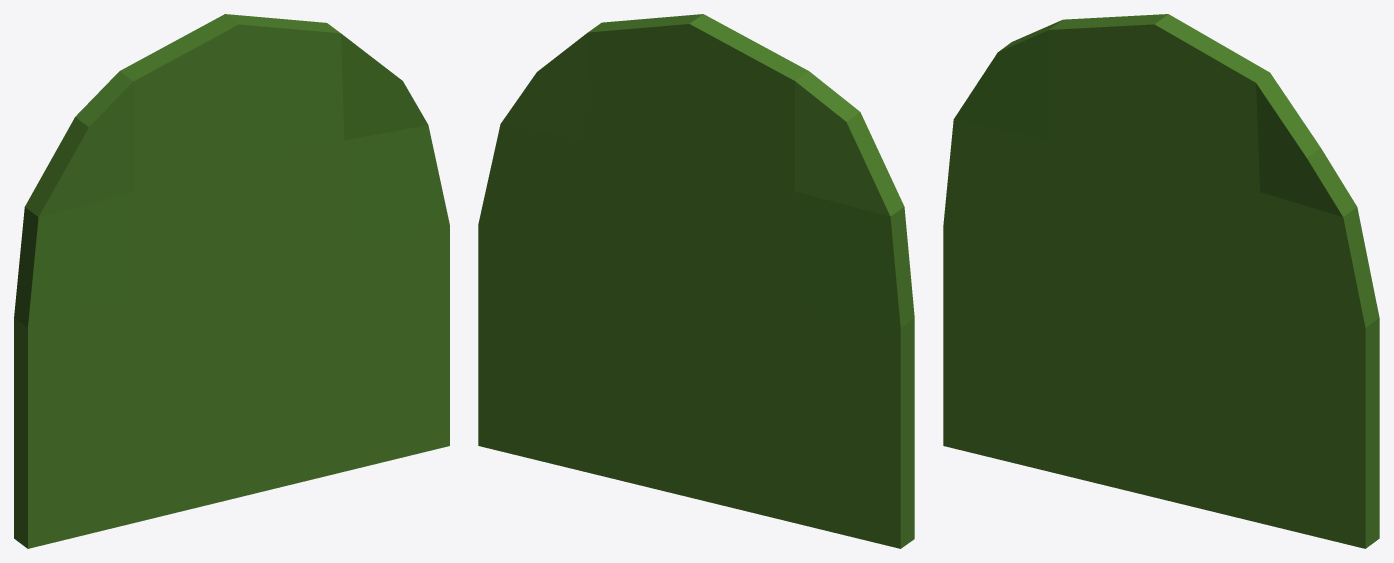
Rendered from greenportal1.glb.
3 renders of one model, left to right at view 1: azimuth 30°, elevation 25°; view 2: azimuth 150°, elevation 25°; view 3: azimuth 330°, elevation 25°, orthographic.
Parts seen in each view (by area): view 1: Portal.Arch.Plane.002; view 2: Portal.Arch.Plane.002; view 3: Portal.Arch.Plane.002.
Part boxes in pixels (x1,y1,x2,y2): Portal.Arch.Plane.002: [14, 14, 449, 548]; Portal.Arch.Plane.002: [478, 14, 914, 548]; Portal.Arch.Plane.002: [943, 14, 1379, 548].
Bounding box in the file's own units: 2.12 × 2.27 × 0.1719.
1 material, 1 textured.
